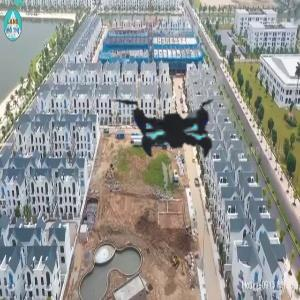drone: (73, 23, 276, 226)
